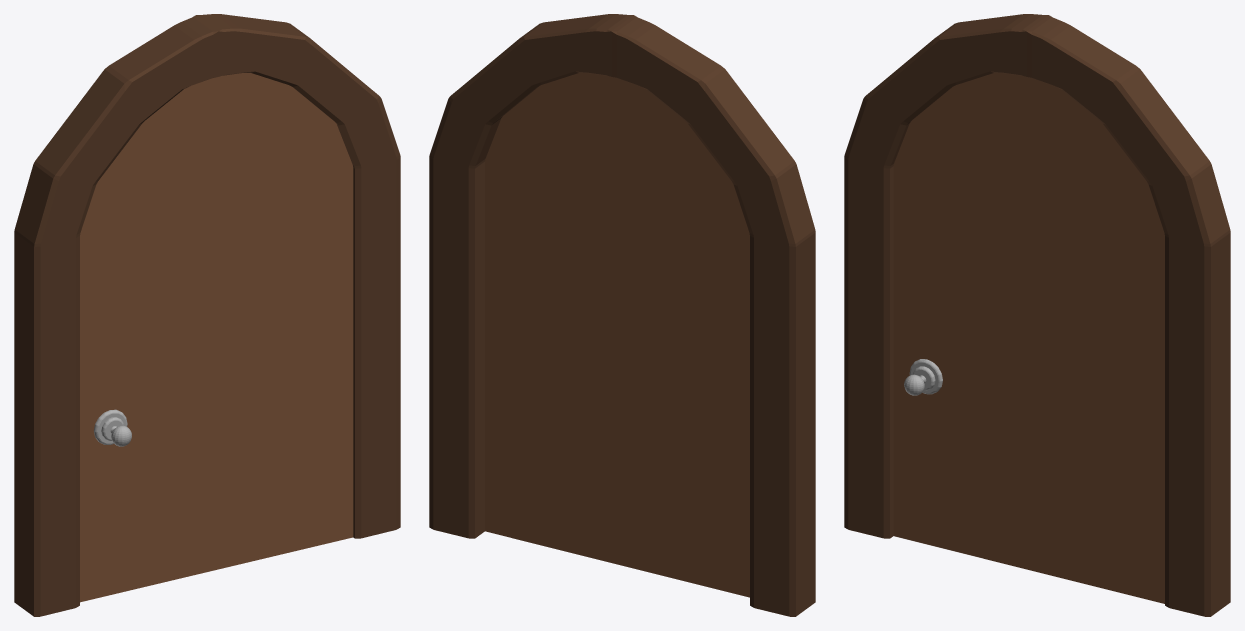
File: animated door.fbx
3 views of the same model, side by side, from view 1: azimuth 30°, elevation 25°; view 2: azimuth 150°, elevation 25°; view 3: azimuth 330°, elevation 25° (orthographic).
Visible parts, largest first — view 1: Cube.001, Cube; view 2: Cube.001, Cube; view 3: Cube.001, Cube.
Boxes of the visible parts, x1,y1,x2,y2 form: Cube.001: [80, 73, 353, 602]; Cube: [14, 14, 400, 616]; Cube.001: [485, 73, 749, 597]; Cube: [429, 14, 815, 616]; Cube.001: [893, 73, 1164, 603]; Cube: [844, 14, 1230, 616].
Bounding box in the file's own units: 799 × 131 × 1131.
